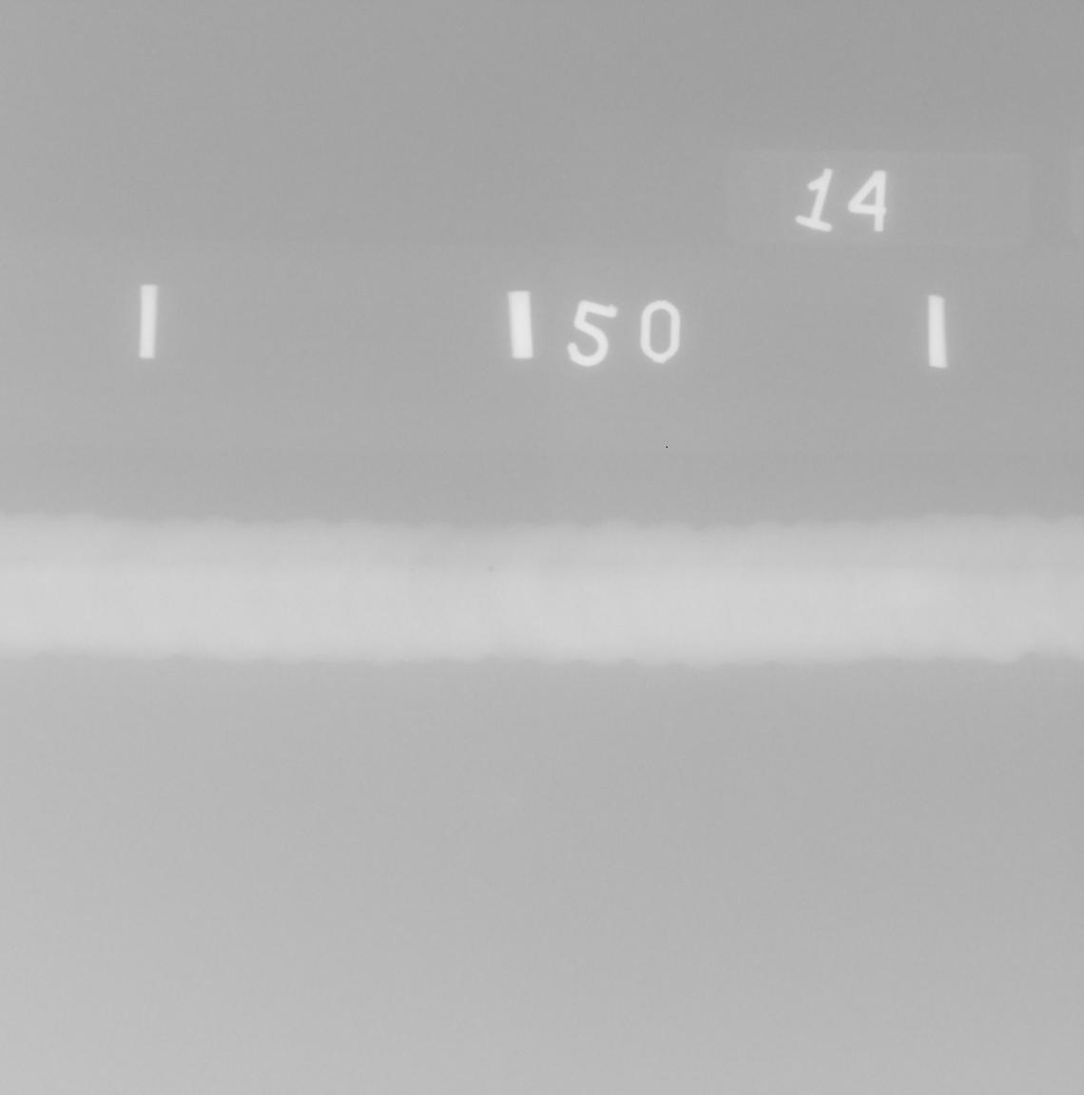Inclusion: (408, 567, 417, 578), (426, 596, 433, 602)
Pore/Porosity: (487, 564, 496, 573)
